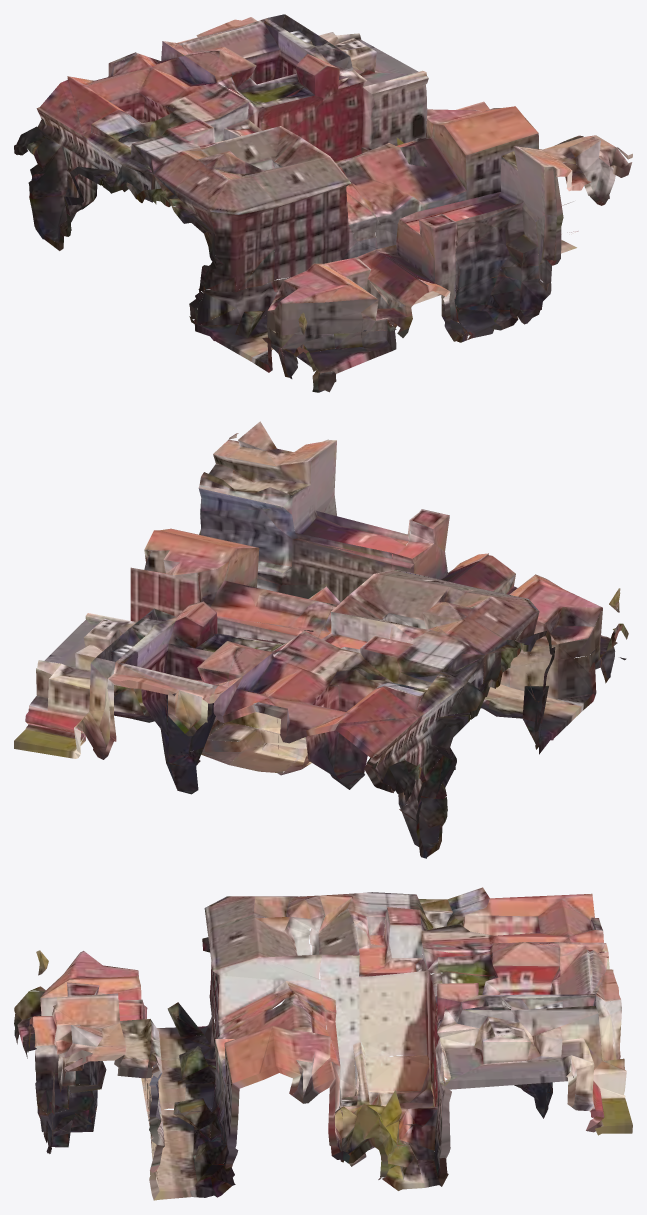
3 views of the same model, one above another, from view 1: azimuth 30°, elevation 25°; view 2: azimuth 150°, elevation 25°; view 3: azimuth 270°, elevation 25° (orthographic). The views are drawn at different scales.
Visible parts, largest first — view 1: Mesh_0; view 2: Mesh_0; view 3: Mesh_0.
Boxes of the visible parts, x1=… form: Mesh_0: x1=14, y1=14, x2=632, y2=392; Mesh_0: x1=14, y1=421, x2=628, y2=858; Mesh_0: x1=14, y1=887, x2=632, y2=1200.
Size of the model in its own units: 67.49 by 27.62 by 82.55.
2 materials, 2 textured.
